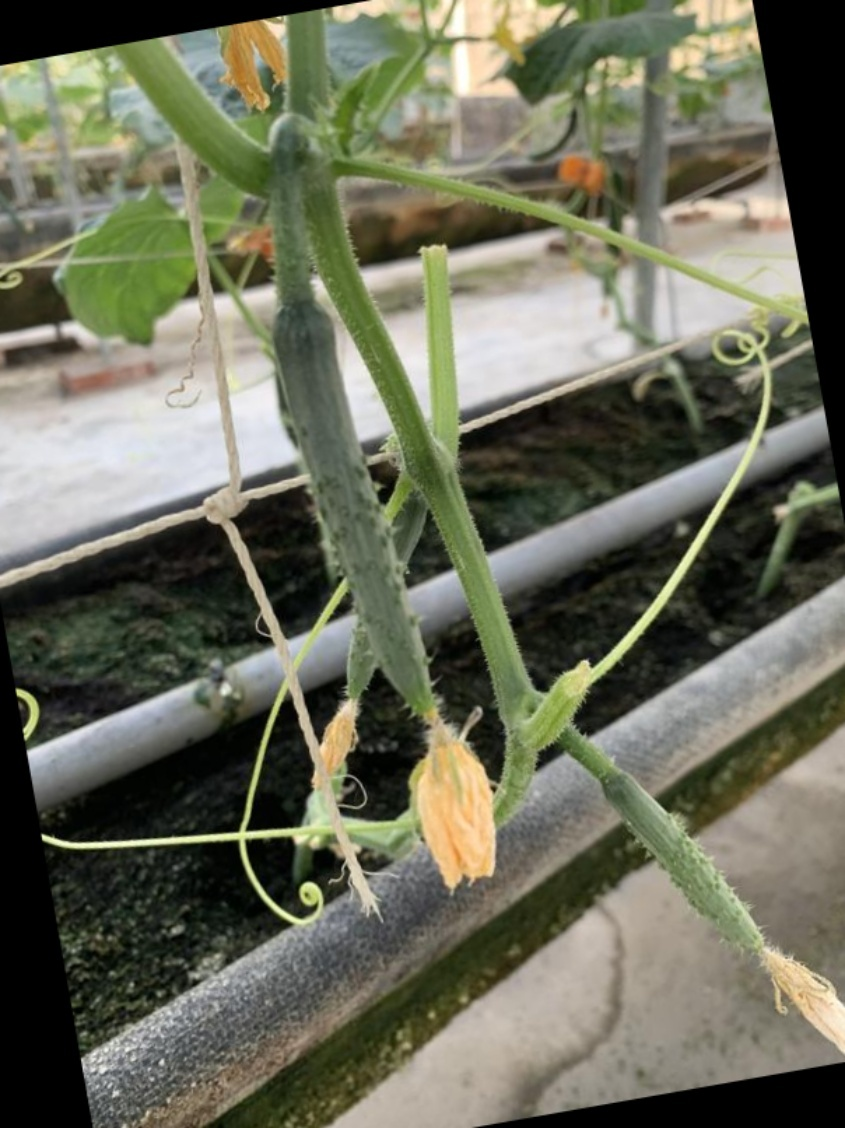bear: (589, 768, 843, 1041)
